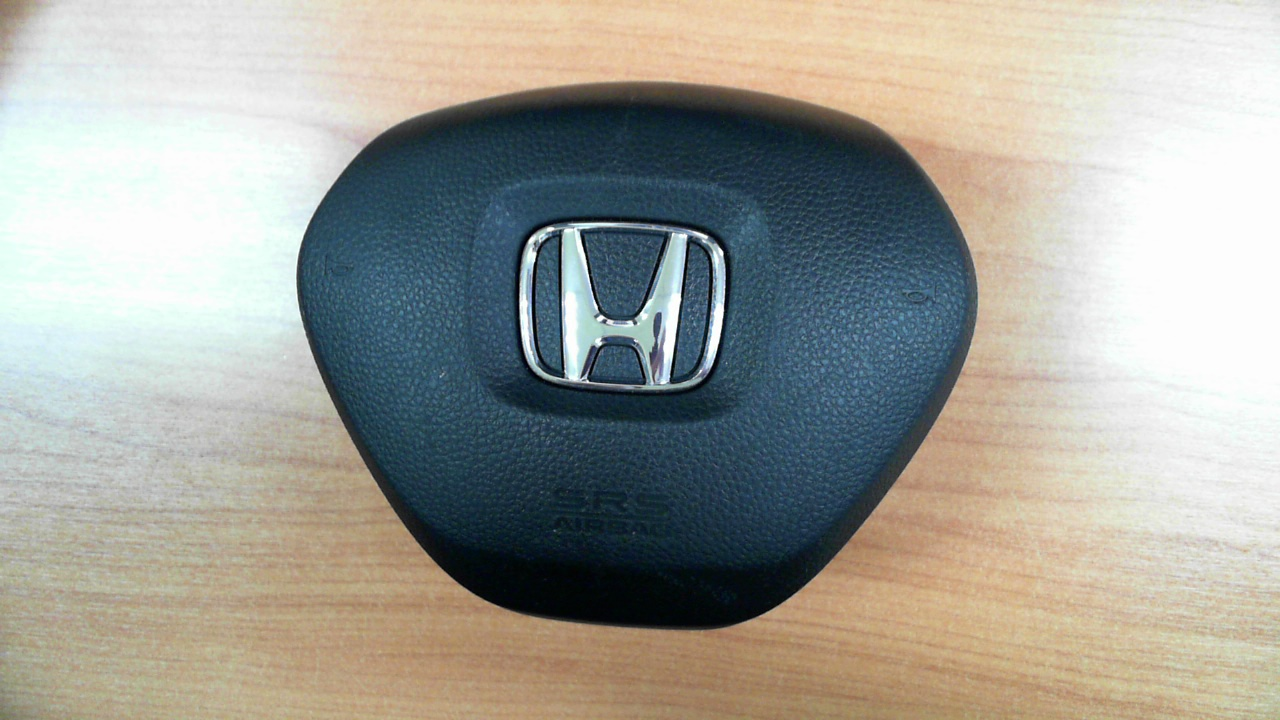Airbag: (296, 80, 979, 628)
